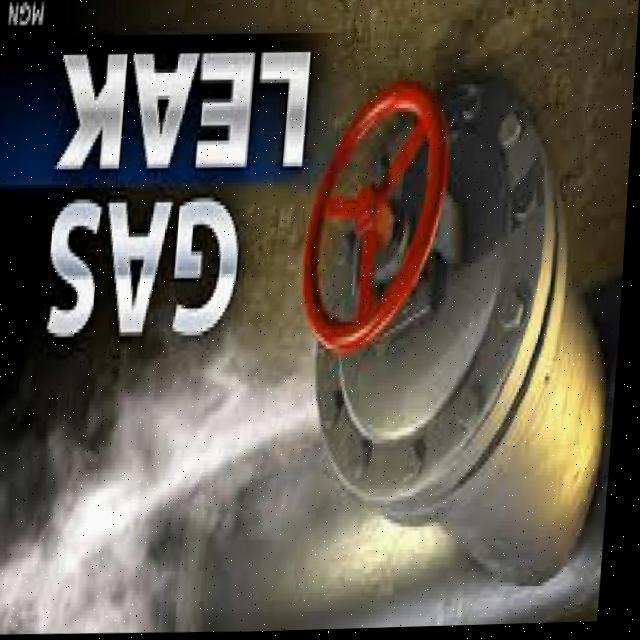corrosion: (91, 273, 434, 504)
